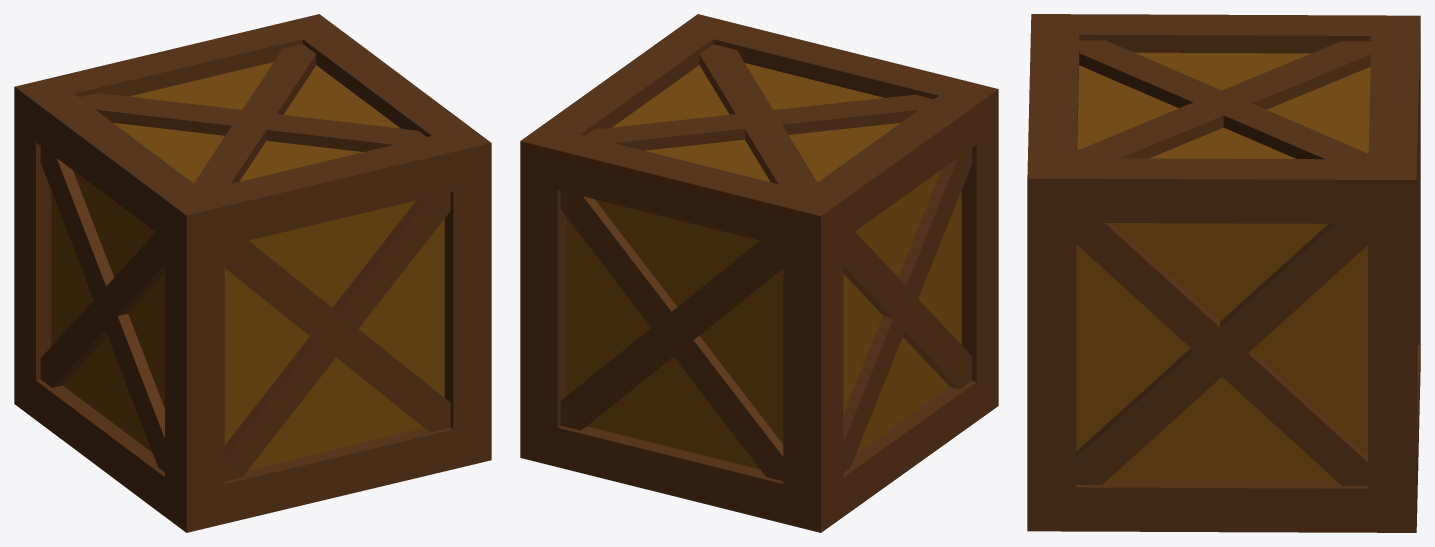
The picture shows the model from 3 angles, left to right: view 1: azimuth 30°, elevation 25°; view 2: azimuth 150°, elevation 25°; view 3: azimuth 270°, elevation 25°; orthographic projection. The views are drawn at different scales.
Visible parts, largest first — view 1: Frame, Face3, Face3Cross, Face4Cross, Face5Cross, Face5, Face4; view 2: Frame, Face1, Face1Cross, Face5Cross, Face5, Face4Cross, Face4; view 3: Frame, Face6, Face6Cross, Face4Cross, Face4.
Boxes of the visible parts, x1,y1,x2,y2 form: Frame: (14,14,491,532); Face3: (224,200,444,469); Face3Cross: (224,192,450,481); Face4Cross: (79,44,426,190); Face5Cross: (40,146,164,472); Face5: (51,170,164,452); Face4: (113,62,400,183); Frame: (520,14,998,532); Face1: (566,199,783,469); Face1Cross: (560,191,783,480); Face5Cross: (843,148,971,472); Face5: (843,170,961,453); Face4Cross: (585,44,933,190); Face4: (612,63,900,182); Frame: (1027,14,1420,532); Face6: (1076,223,1367,480); Face6Cross: (1076,222,1367,485); Face4Cross: (1076,40,1371,159); Face4: (1077,52,1370,158).
Size of the model in its own units: 0.6445 by 0.6382 by 0.6445.
